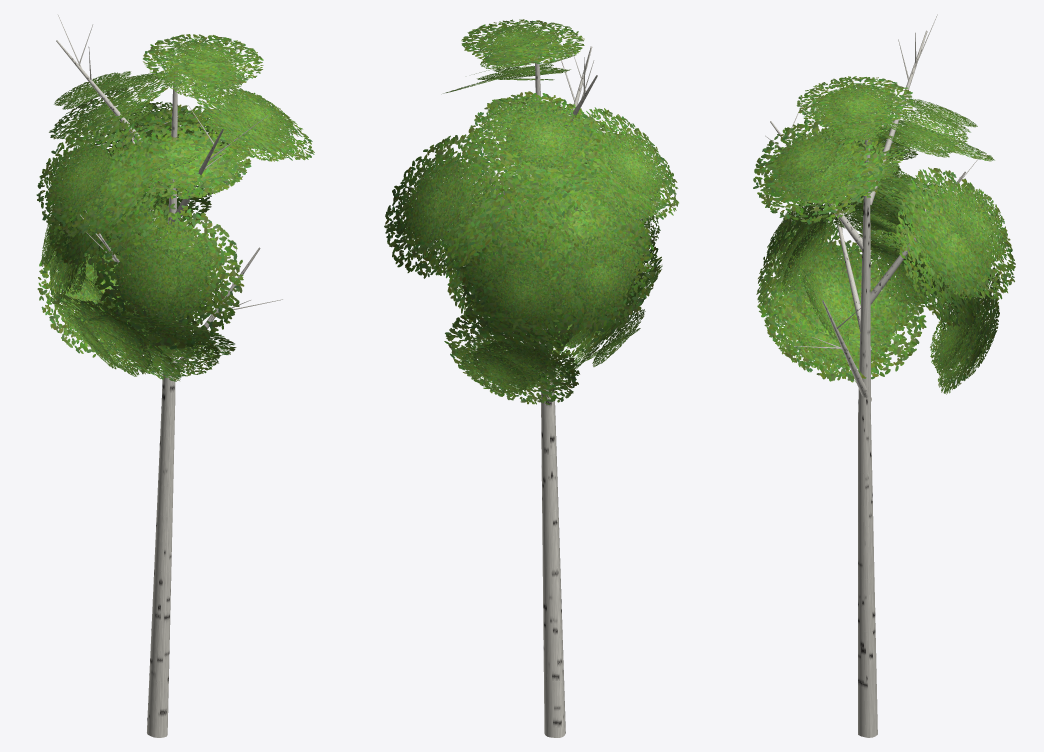
File: Birch_LOD0.fbx
3 renders of one model, left to right at view 1: azimuth 30°, elevation 25°; view 2: azimuth 150°, elevation 25°; view 3: azimuth 270°, elevation 25°, orthographic. The views are drawn at different scales.
Visible parts, largest first — view 1: Birch_LOD0; view 2: Birch_LOD0; view 3: Birch_LOD0.
Boxes of the visible parts, x1,y1,x2,y2 form: Birch_LOD0: [36, 14, 314, 737]; Birch_LOD0: [384, 19, 678, 737]; Birch_LOD0: [753, 14, 1015, 737].
Bounding box in the file's own units: 5.91 × 14.96 × 5.84.
Materials: 1 (1 with a texture image).
